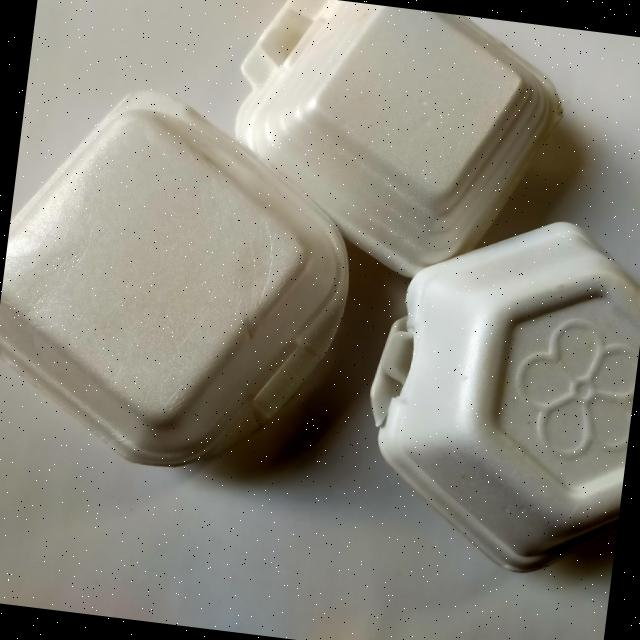styrofoam: (0, 72, 371, 487), (349, 198, 640, 584), (214, 0, 573, 293)
